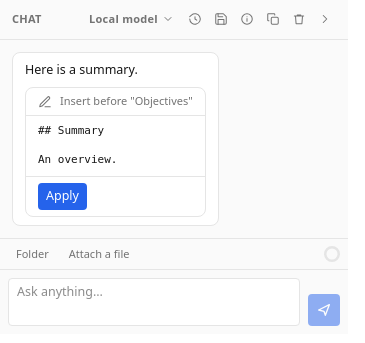
Test: ChatPanel: proposed edits › cannot be applied twice
Click the button "Apply". click: click(62, 196)
box: [38, 183, 87, 210]
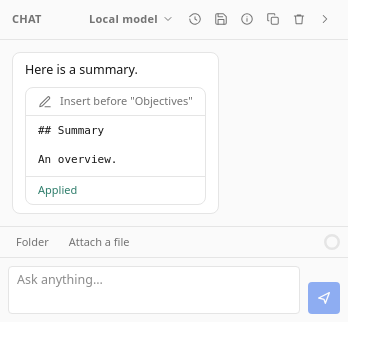
Now the button "Apply" is gone
Now the text "Applied" is shown, box [38, 183, 77, 198]
